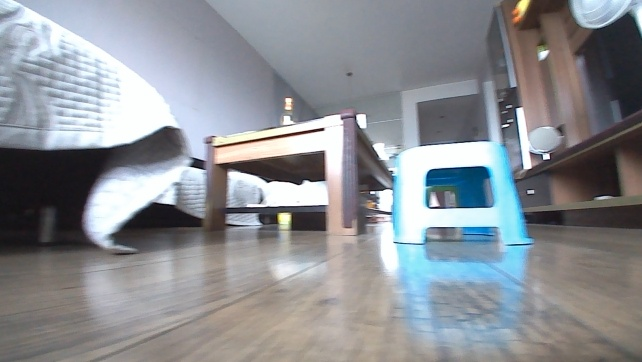TV_stand1: (196, 106, 394, 238), (515, 106, 641, 229)
tea_table1: (0, 0, 271, 254)
